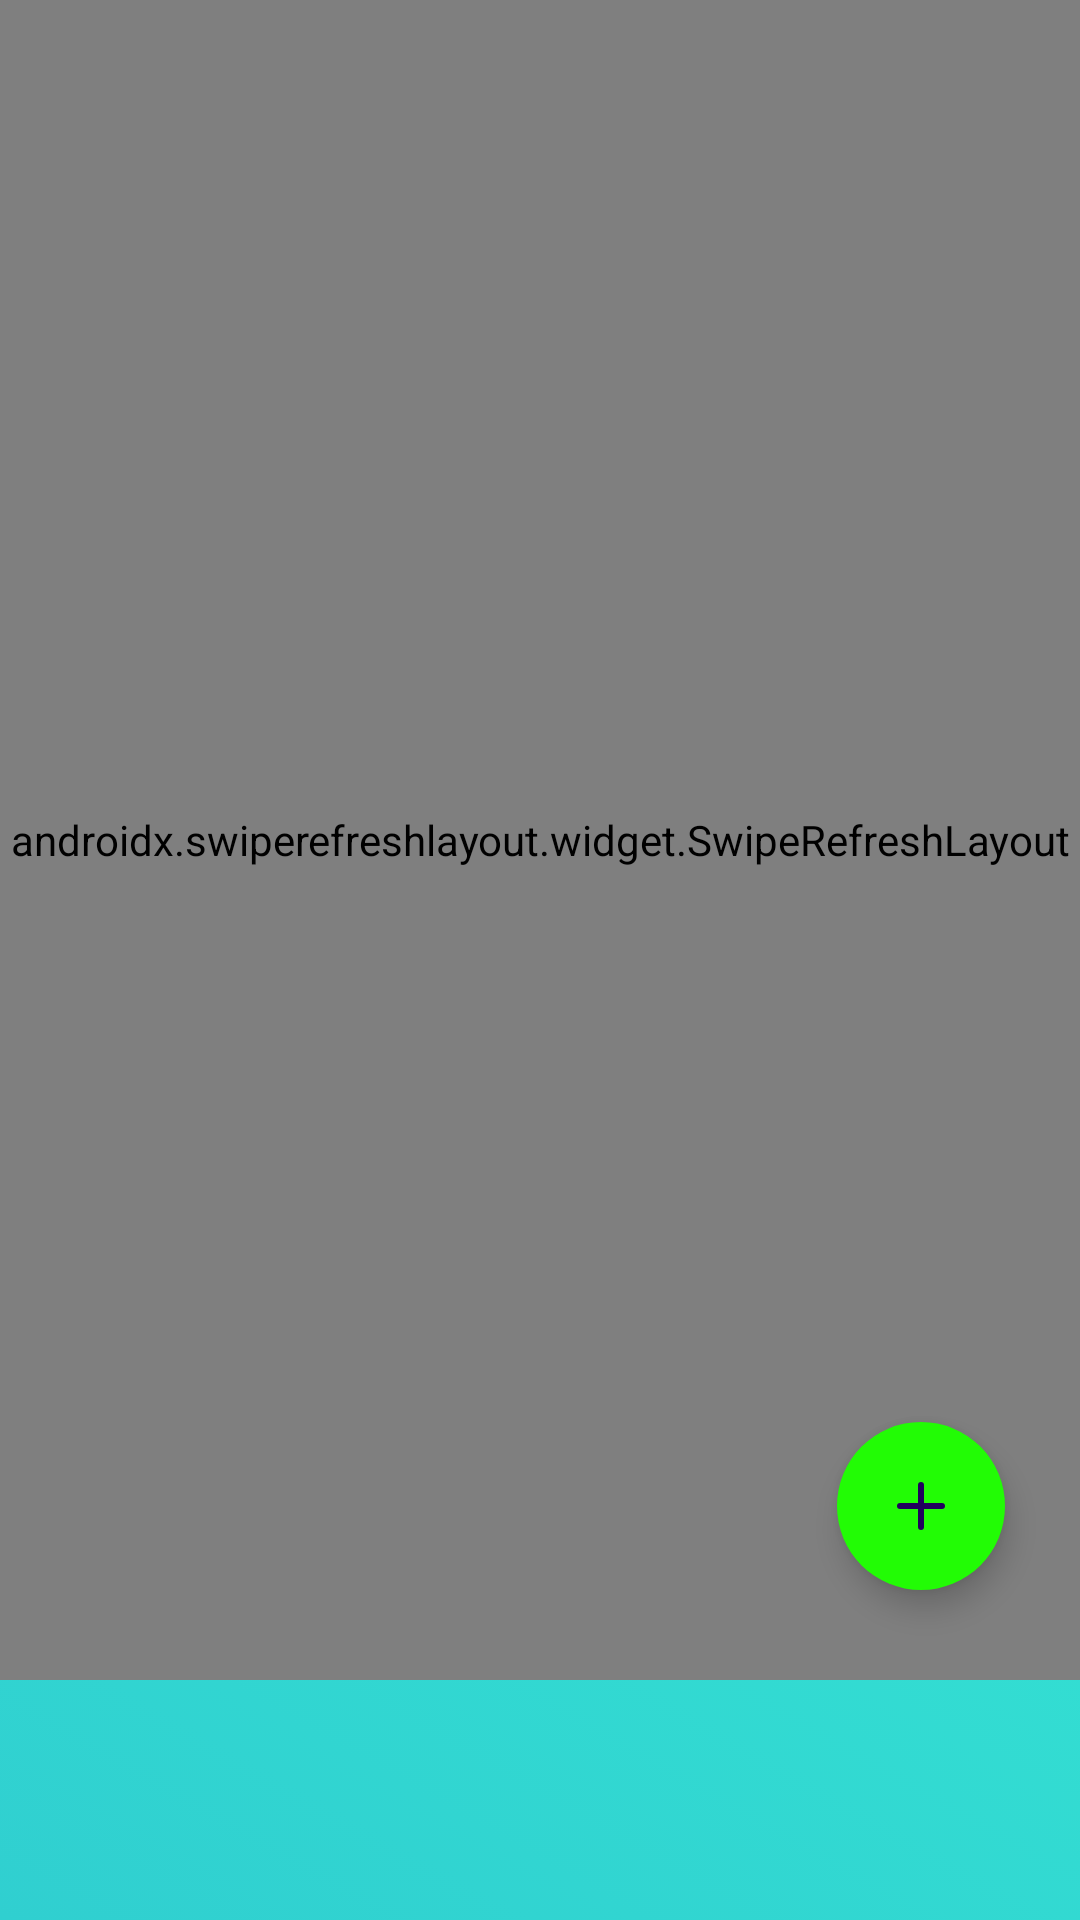

Icon click points for this 1080px×1920px phone screenshot, format (x=x, y=y):
add: (x=921, y=1506)
